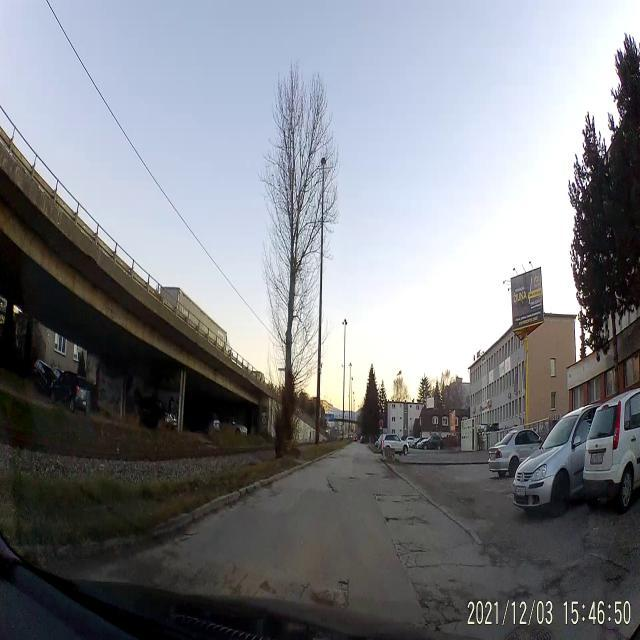Manhole: (504, 622, 562, 640)
Pothole: (416, 590, 464, 634), (308, 576, 352, 608), (392, 538, 427, 564), (380, 511, 400, 529), (406, 512, 427, 528), (370, 486, 386, 503), (326, 479, 340, 496), (392, 496, 404, 506), (364, 472, 379, 478)
